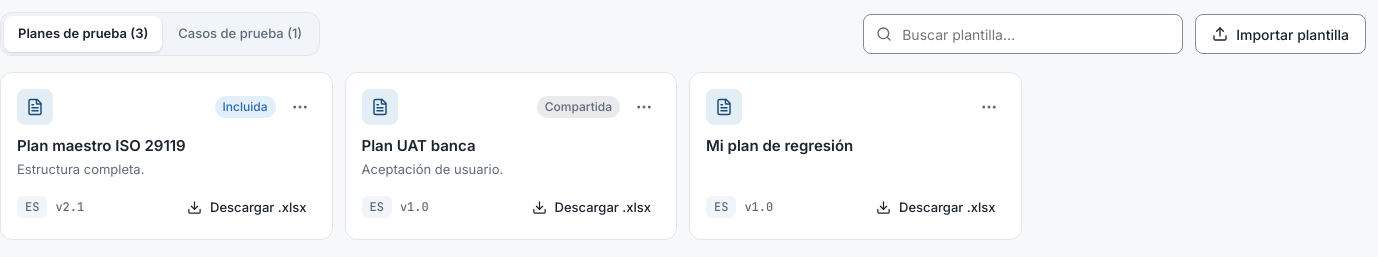
Test: TemplatesTab › shows one kind at a time with counters and reports the total
Check: the number of list items with test id "template-card" is 3, box 0,72 -> 332,240; 344,72 -> 677,240; 689,72 -> 1022,240
Check: the radio button labelled "Planes de prueba (3)" is checked, box 4,16 -> 162,52
What coordinates should you click on to do the following:
click the radio button labelled "Casos de prueba (1)"
I would click on:
 (240, 34)
Its box is 164,16 -> 316,52.
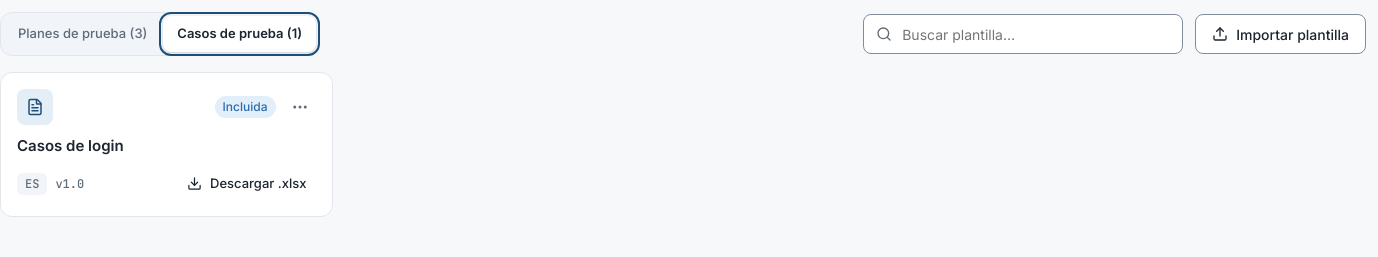
Check: the number of list items with test id "template-card" is 1, box 0,72 -> 332,217
Check: the heading "Casos de login" is shown, box 17,136 -> 124,155
